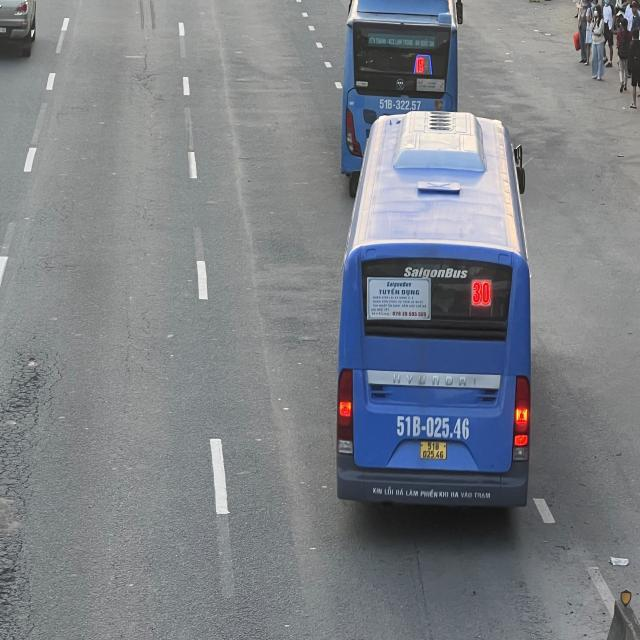coach: (338, 109, 533, 513), (348, 0, 469, 175)
